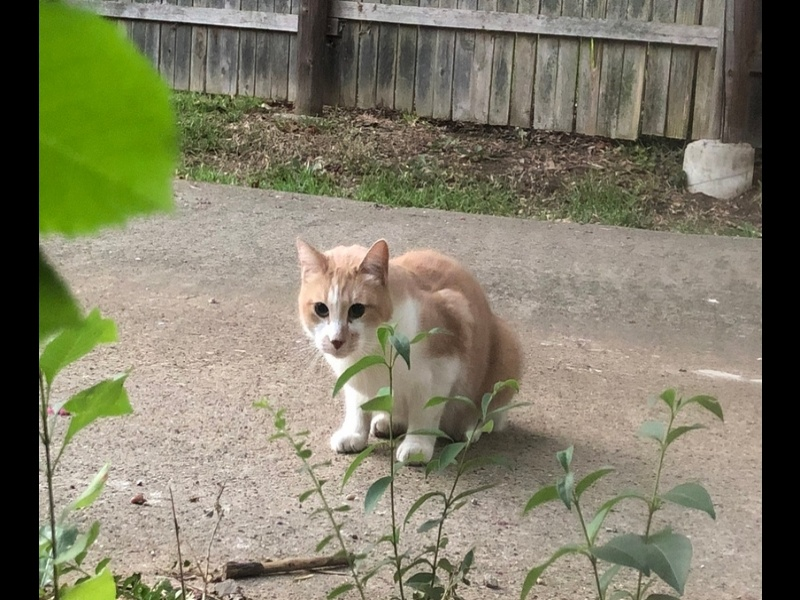cat: (289, 234, 528, 469)
